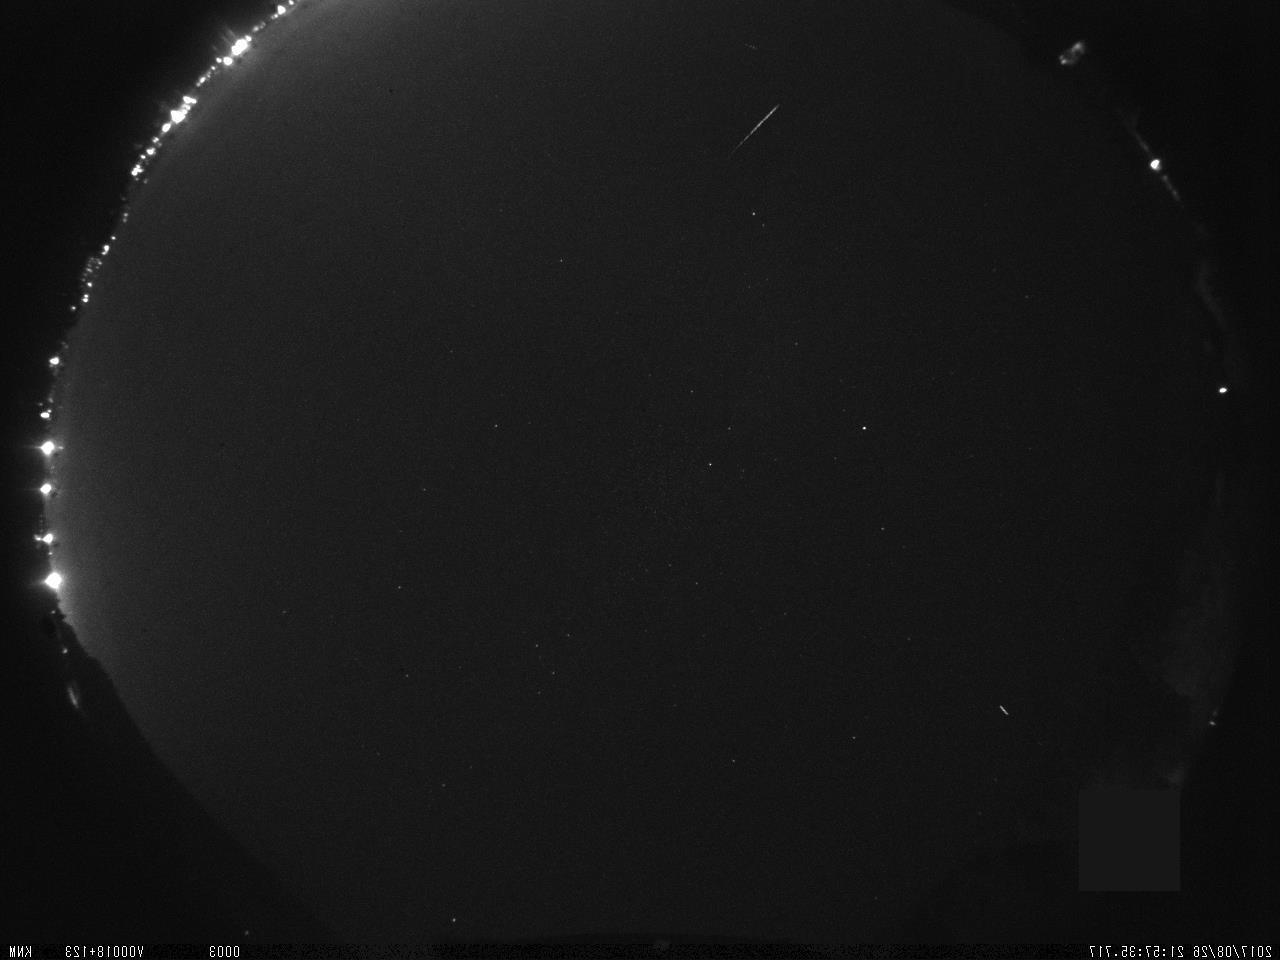meteor: (732, 99, 786, 152)
